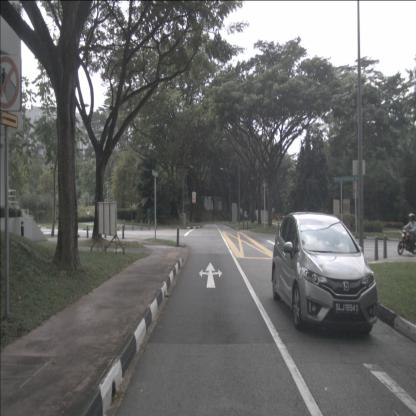vehicle-car: (271, 212, 378, 334)
vehicle-motorcycle: (397, 213, 416, 256)
